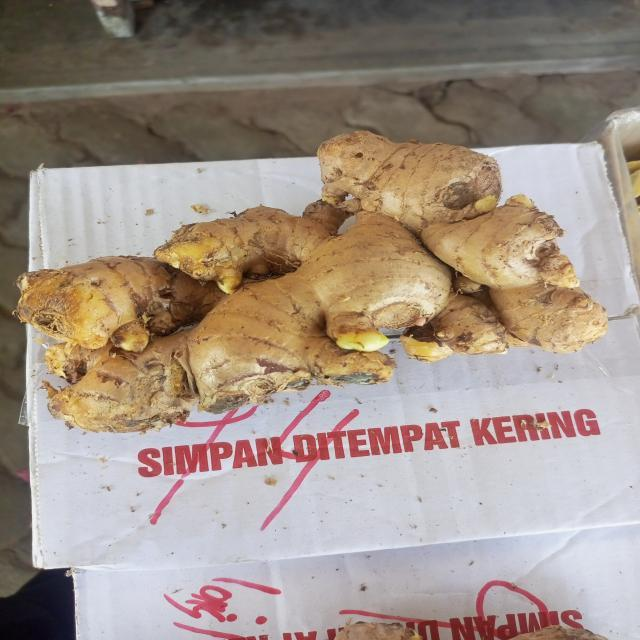ginger: (36, 132, 603, 420)
